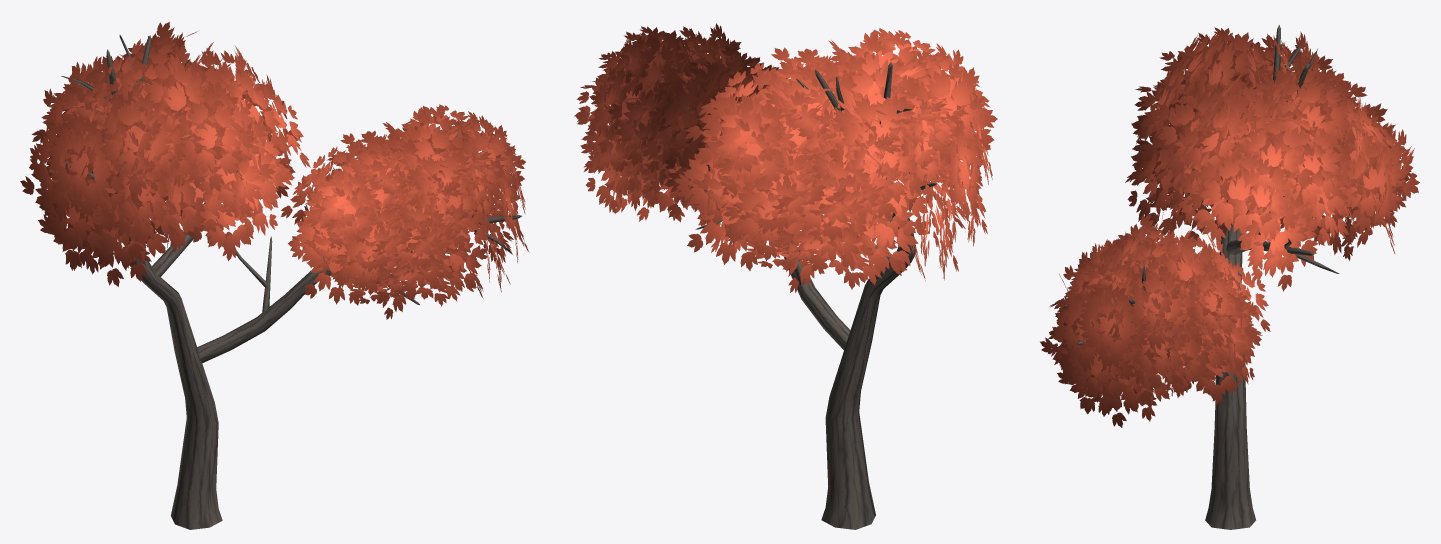
The model's file is maple_1.glb.
3 views of the same model, side by side, from view 1: azimuth 30°, elevation 25°; view 2: azimuth 150°, elevation 25°; view 3: azimuth 270°, elevation 25° (orthographic). The views are drawn at different scales.
Parts seen in each view (by area): view 1: MapleTree_1; view 2: MapleTree_1; view 3: MapleTree_1.
Boxes of the visible parts, x1,y1,x2,y2 form: MapleTree_1: [20, 21, 529, 529]; MapleTree_1: [574, 23, 997, 529]; MapleTree_1: [1040, 25, 1419, 529].
Size of the model in its own units: 6.23 by 6.64 by 4.9.
Materials: 2 (2 with a texture image).
